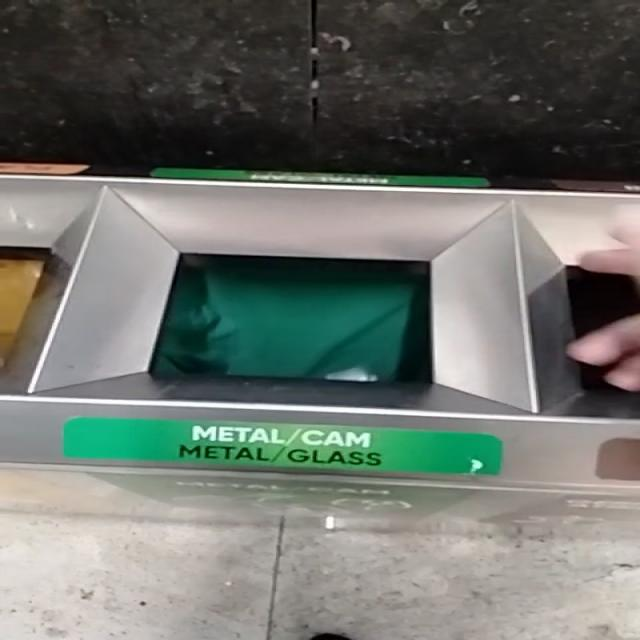metal: (325, 368, 377, 383)
